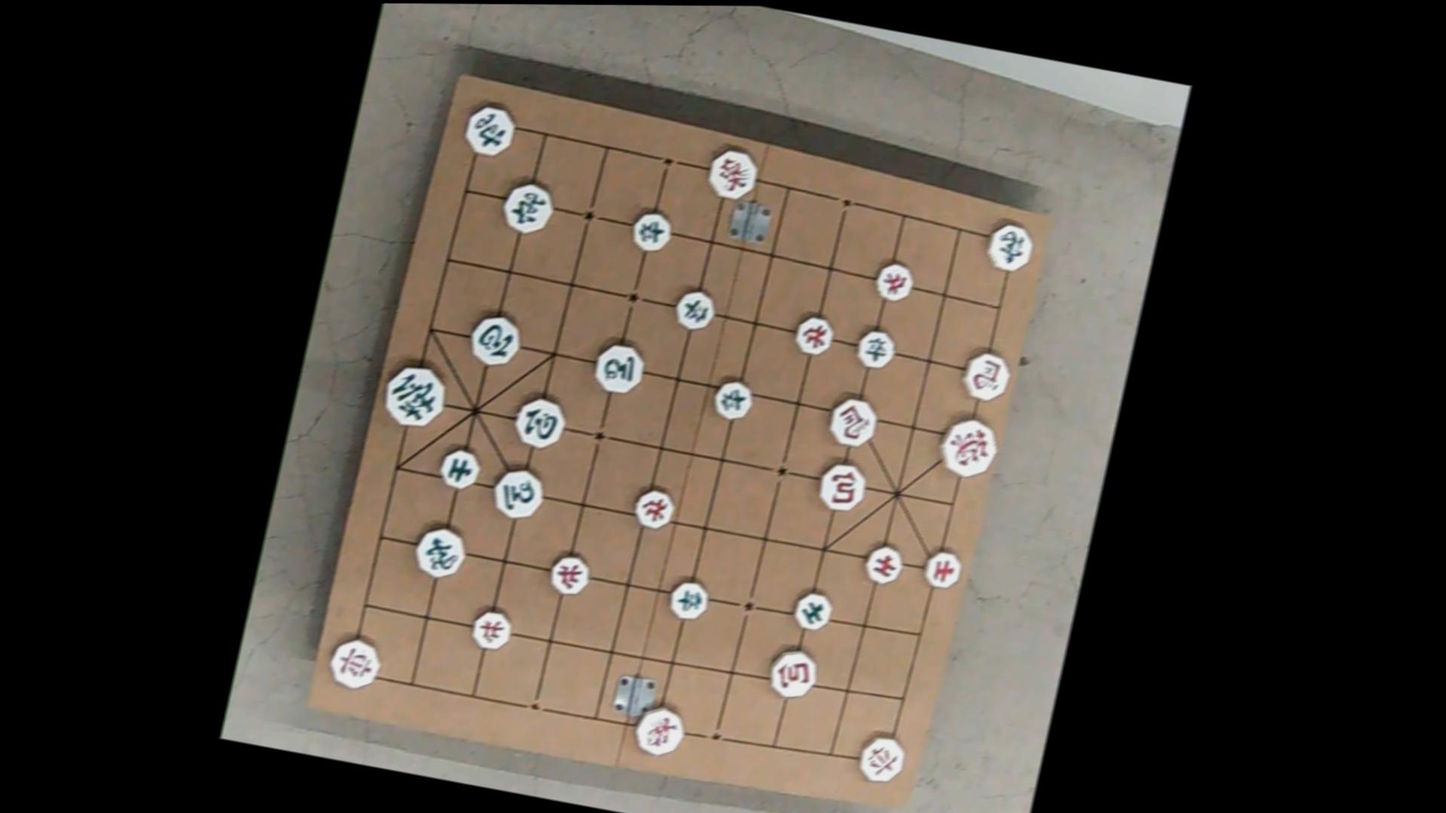cha_green: (499, 181, 557, 237), (460, 103, 517, 158)
cha_red: (324, 636, 383, 692), (854, 734, 908, 785)
jol_green: (627, 209, 673, 253), (671, 288, 718, 331), (709, 377, 754, 421), (667, 580, 712, 623), (851, 328, 896, 370)
jol_red: (543, 553, 590, 599), (468, 606, 515, 650), (630, 486, 676, 530), (789, 312, 834, 356), (870, 261, 914, 303)
ma_green: (590, 341, 647, 397), (487, 464, 545, 519)
ma_red: (822, 395, 878, 448), (958, 350, 1012, 404)
po_green: (508, 397, 566, 452), (464, 312, 522, 366)
po_red: (763, 646, 819, 699), (814, 463, 868, 514)
sa_green: (437, 449, 484, 491), (789, 591, 834, 633)
sa_red: (922, 547, 966, 591), (862, 544, 905, 585)
sang_green: (408, 525, 468, 580), (982, 221, 1035, 272)
sang_red: (629, 704, 688, 760), (702, 147, 761, 202)
wang_green: (379, 362, 450, 431)
wang_red: (934, 416, 1000, 480)
